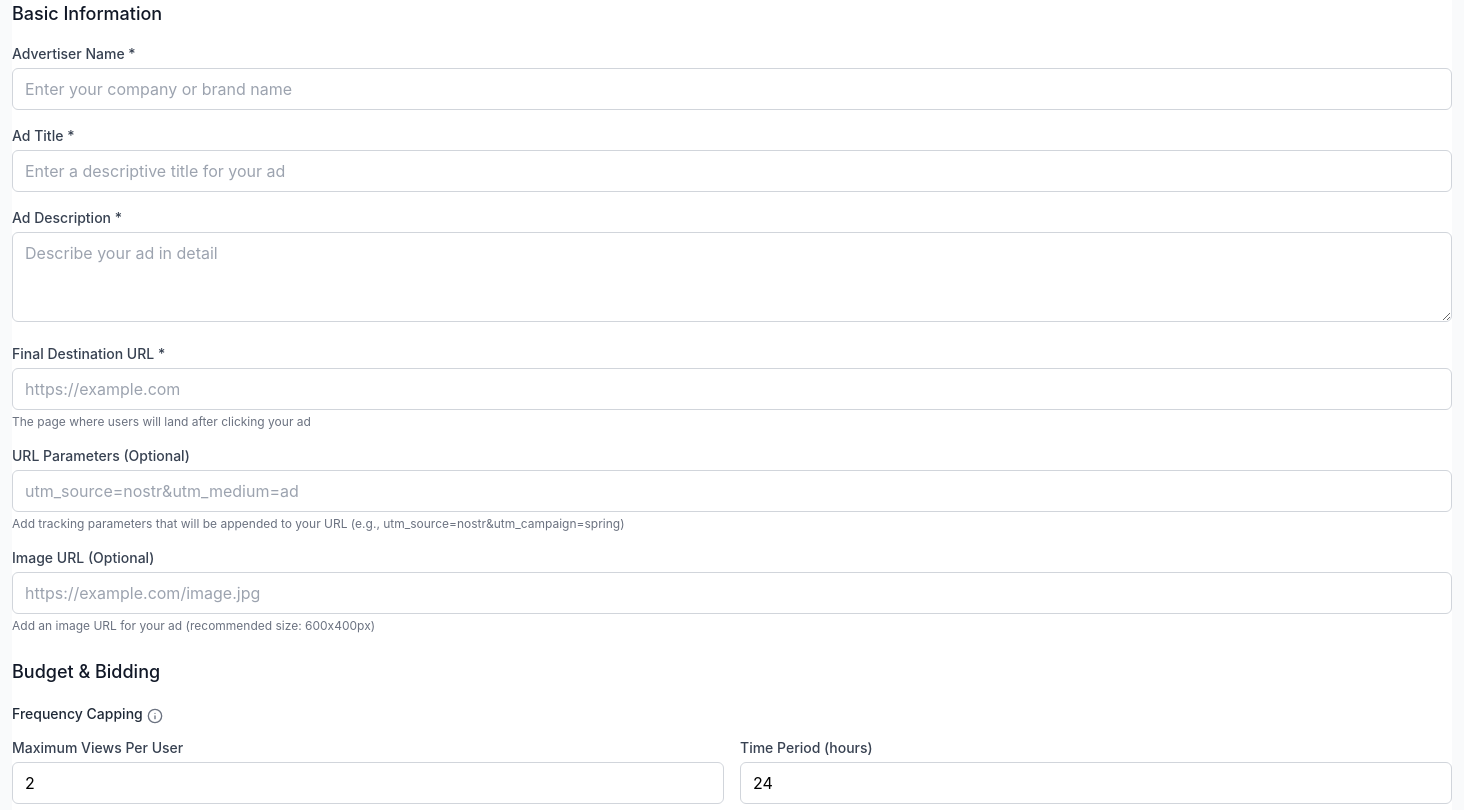
Test: AdForm Component › shows error for URL parameters starting with a question mark
// Fill in a URL parameter that starts with a question mark
Type "?utm_source=test" into the field with placeholder "utm_source=nostr&utm_medium=ad" at (732, 491), box [12, 470, 1452, 512]
(page scrolled)
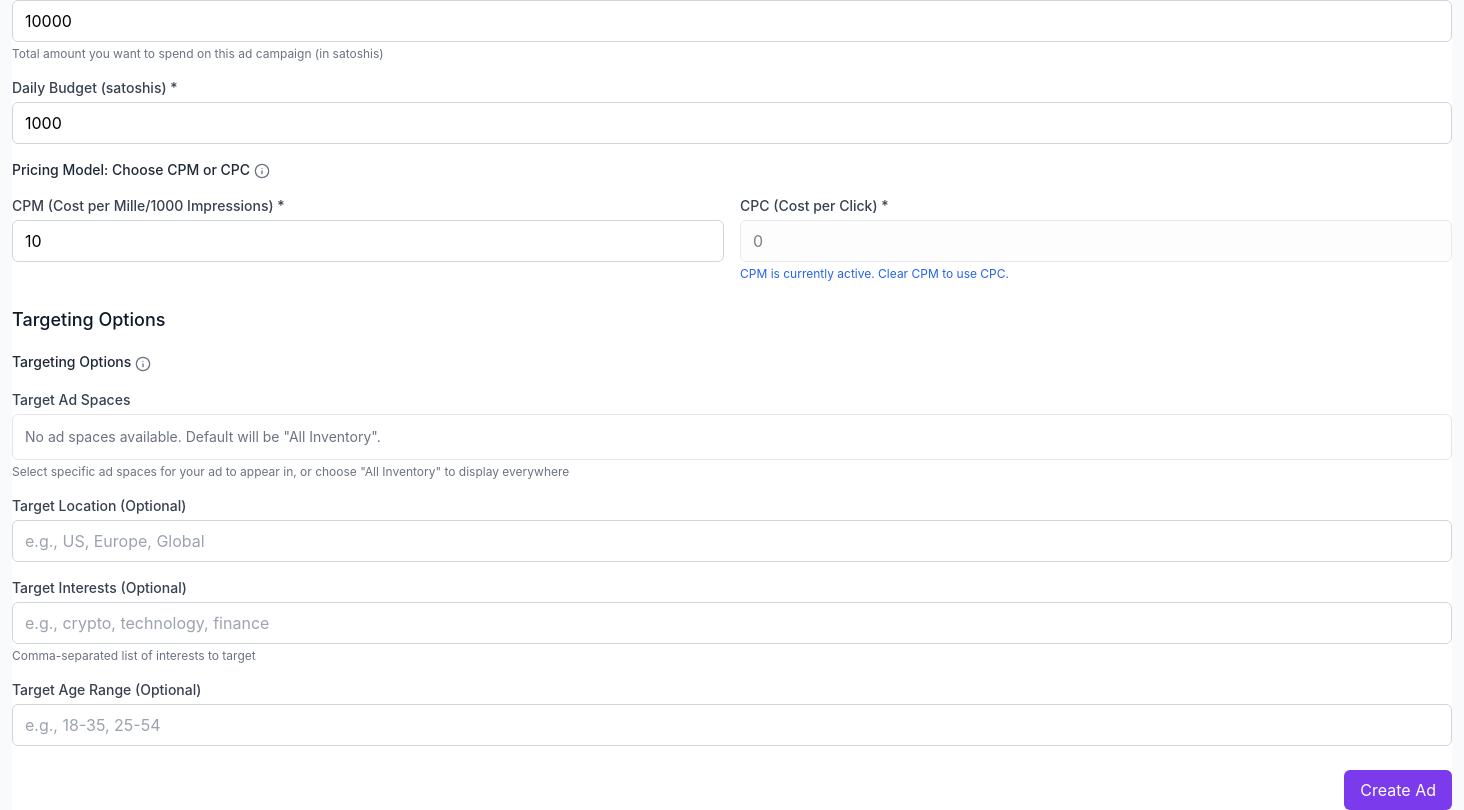
// Submit the form
Click the button "Create Ad" at (1398, 790), box [1344, 770, 1452, 809]
(page scrolled)
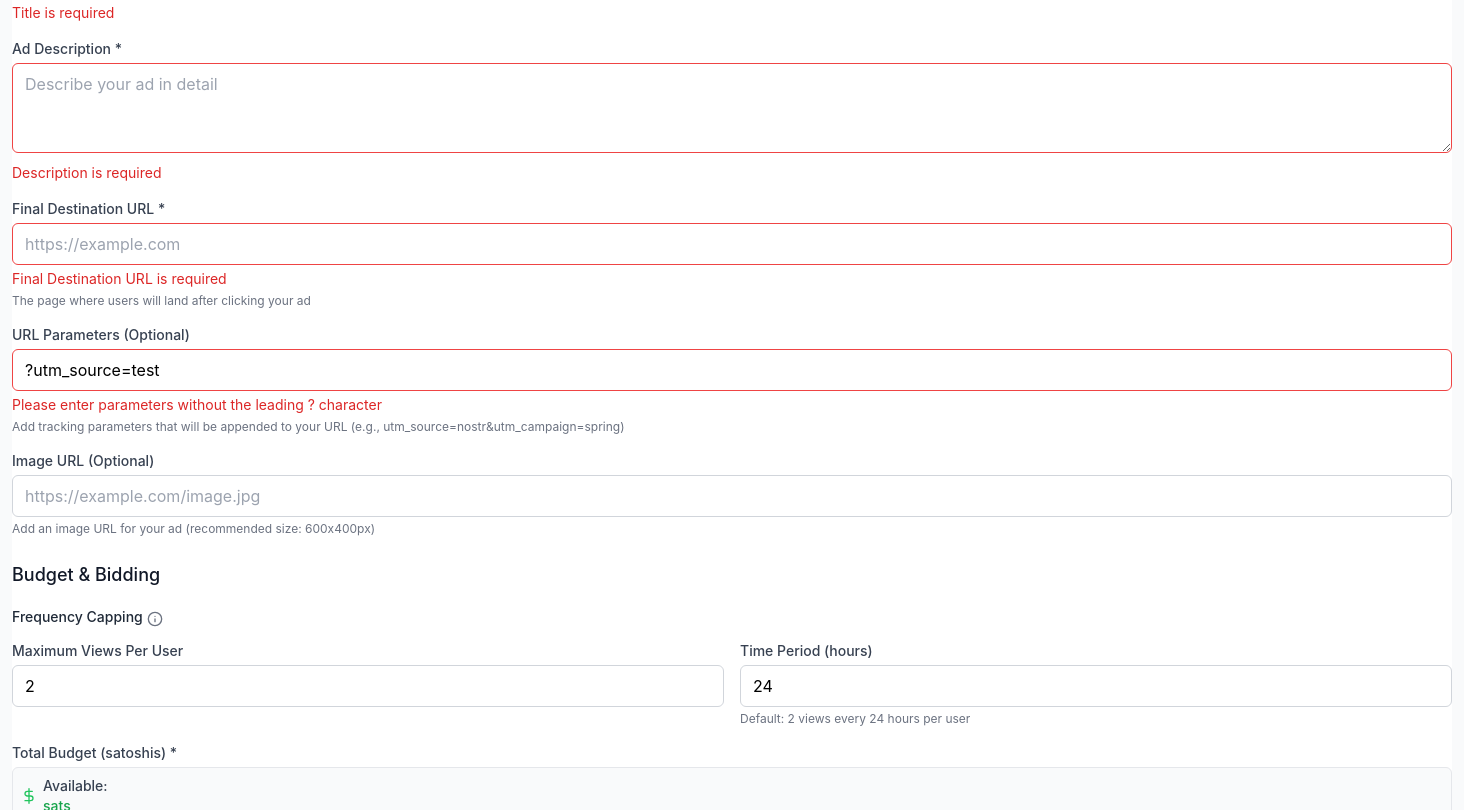
Check: the text "Please enter parameters without the leading ? character" is shown, box [12, 396, 382, 413]
